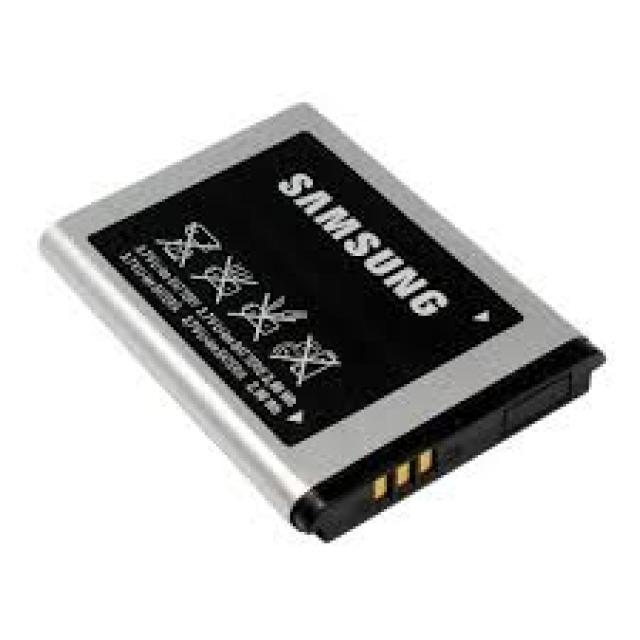non-organic waste: (42, 99, 605, 542)
